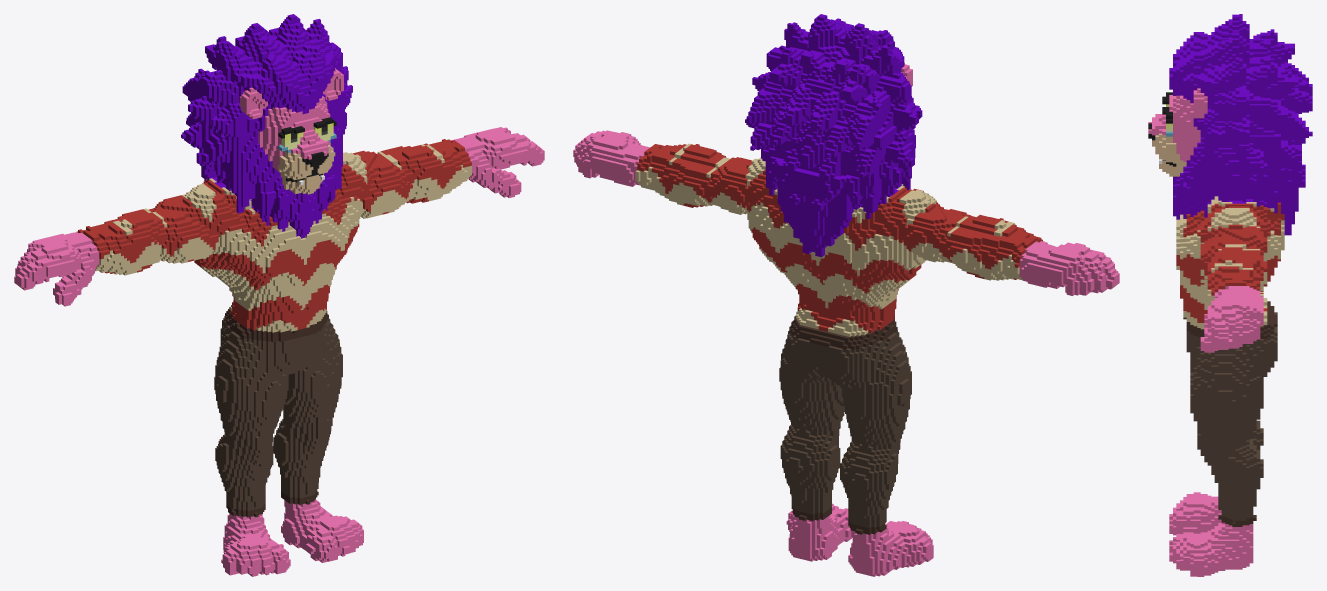
The picture shows the model from 3 angles, left to right: view 1: azimuth 30°, elevation 25°; view 2: azimuth 150°, elevation 25°; view 3: azimuth 270°, elevation 25°; orthographic projection. The views are drawn at different scales.
Visible parts, largest first — view 1: standard; view 2: standard; view 3: standard.
Boxes of the visible parts, x1,y1,x2,y2 form: standard: [14, 14, 544, 576]; standard: [573, 14, 1119, 576]; standard: [1148, 14, 1312, 576].
Bounding box in the file's own units: 17.2 × 16.5 × 4.7.
5 materials, 5 textured.
